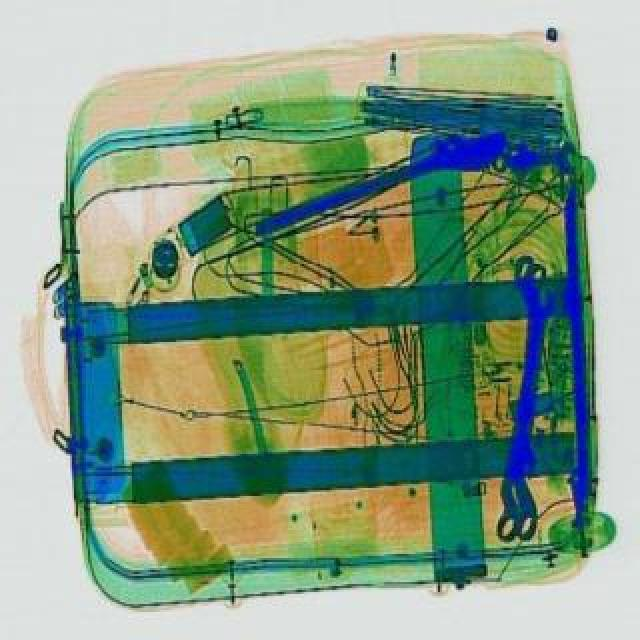scissors: (246, 112, 518, 254), (490, 260, 550, 538), (512, 250, 538, 538)
